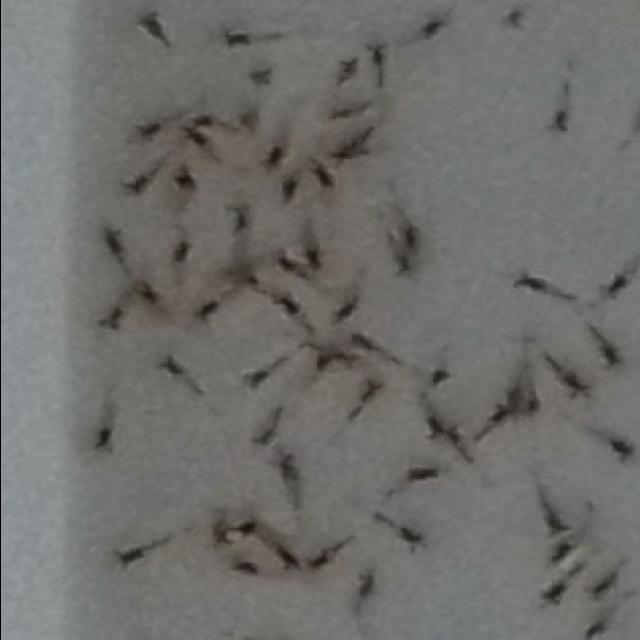shrimp-seed: (510, 266, 548, 296), (557, 369, 594, 398), (584, 574, 620, 602), (99, 223, 125, 260), (538, 508, 570, 538), (272, 248, 304, 278), (270, 290, 304, 318), (446, 424, 472, 460), (112, 544, 146, 570), (328, 56, 362, 82), (328, 96, 362, 122), (600, 274, 630, 302), (98, 304, 128, 332), (397, 526, 429, 552), (355, 568, 380, 600), (124, 172, 156, 197), (405, 463, 441, 485), (193, 298, 220, 327), (310, 162, 340, 188), (260, 145, 290, 171), (335, 140, 370, 162), (242, 368, 274, 392), (128, 120, 160, 144), (362, 42, 391, 68), (549, 540, 575, 568), (274, 178, 302, 204), (233, 517, 263, 541), (158, 356, 188, 380), (351, 332, 383, 354), (181, 128, 213, 150), (600, 344, 626, 371), (276, 454, 302, 481), (91, 428, 118, 454), (331, 300, 358, 326), (167, 242, 194, 268), (135, 278, 162, 304), (607, 438, 636, 462), (419, 16, 448, 40), (137, 13, 167, 36), (540, 582, 566, 608), (227, 206, 253, 232), (544, 110, 572, 134), (488, 402, 516, 426), (233, 554, 261, 578), (220, 31, 252, 52), (246, 62, 274, 86), (302, 548, 332, 570), (231, 266, 261, 288), (173, 166, 199, 191), (248, 425, 278, 446), (500, 8, 528, 30), (193, 110, 220, 132), (423, 414, 447, 438), (360, 380, 384, 404), (300, 245, 324, 269), (274, 548, 300, 570), (350, 127, 376, 149), (209, 524, 234, 545), (584, 618, 610, 638), (394, 255, 416, 278), (402, 226, 424, 248), (430, 365, 450, 387), (336, 348, 358, 368), (523, 395, 543, 416), (506, 388, 526, 408), (316, 349, 335, 370), (236, 112, 258, 130)
